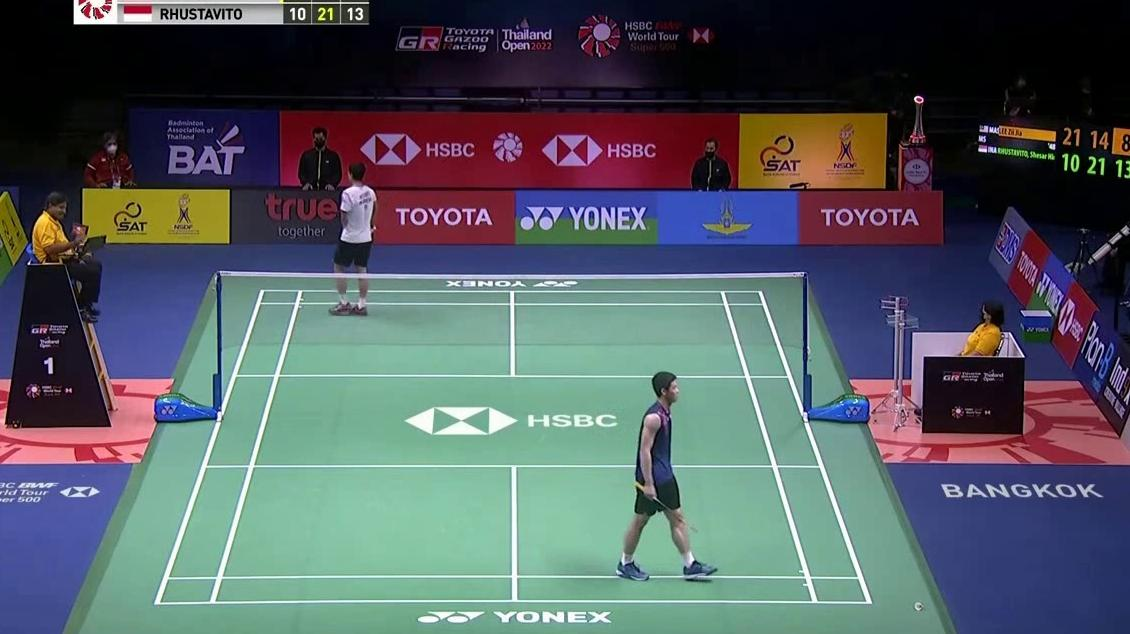racket: (632, 478, 699, 533), (369, 225, 378, 235)
shuttle: (913, 601, 924, 613)
